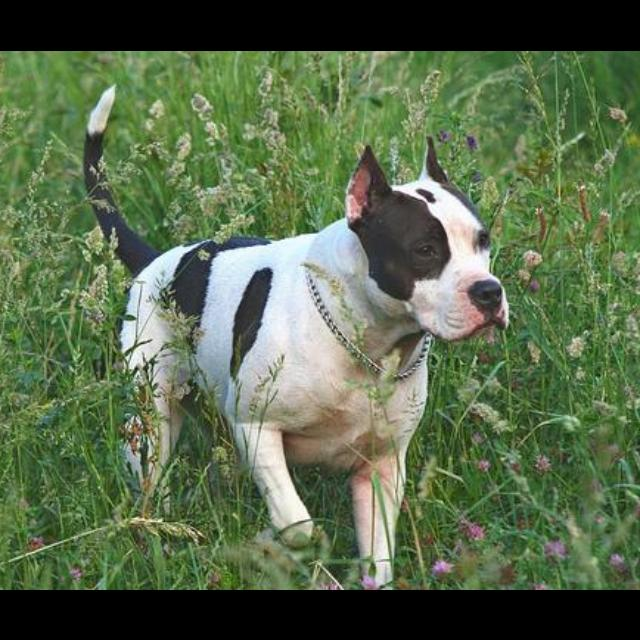amstaff: (84, 84, 513, 591)
